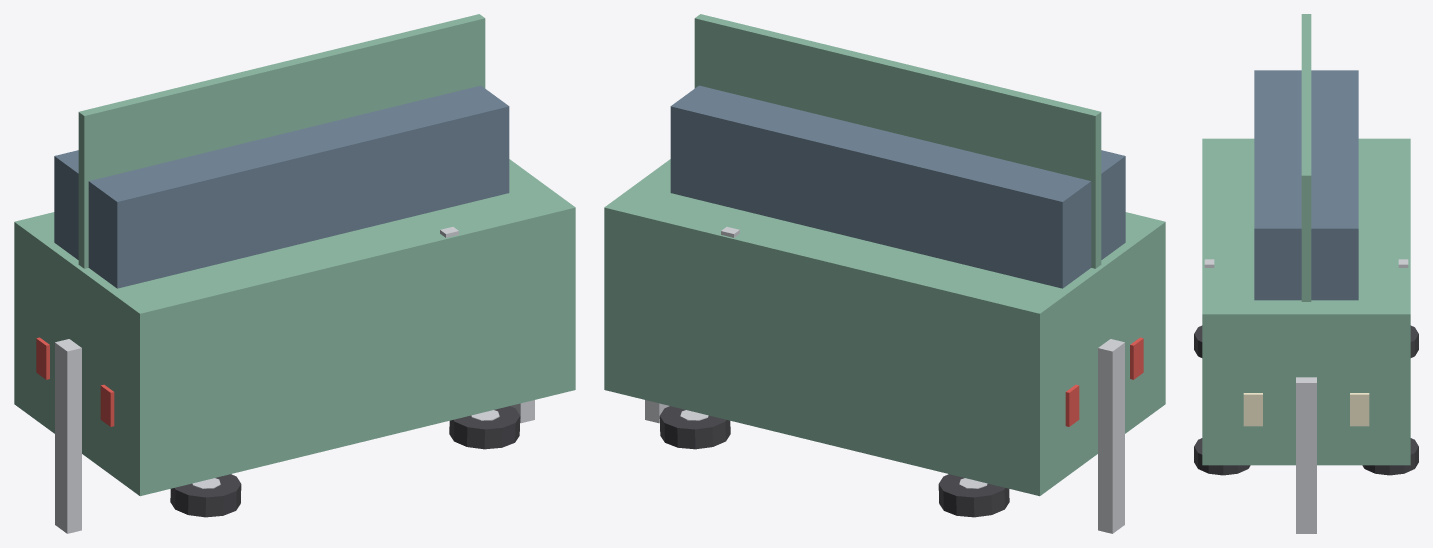
Rendered from minibus.glb.
3 renders of one model, left to right at view 1: azimuth 30°, elevation 25°; view 2: azimuth 150°, elevation 25°; view 3: azimuth 270°, elevation 25°, orthographic. The views are drawn at different scales.
Visible parts, largest first — view 1: Body, Cabin, Roof, BumperR, Wheel1.92-1.2, Wheel-1.92-1.2; view 2: Body, Cabin, Roof, BumperR, Wheel1.921.2, Wheel-1.921.2; view 3: Body, Cabin, BumperF, Roof, Head-1, Head1, Wheel1.92-1.2, Wheel1.921.2.
Boxes of the visible parts, x1,y1,x2,y2 form: Body: (14, 159, 575, 496); Cabin: (54, 85, 509, 288); Roof: (78, 14, 485, 268); BumperR: (55, 339, 81, 533); Wheel1.92-1.2: (449, 406, 520, 449); Wheel-1.92-1.2: (170, 474, 241, 517); Body: (604, 159, 1165, 496); Cabin: (670, 85, 1125, 288); Roof: (694, 14, 1101, 268); BumperR: (1098, 339, 1124, 533); Wheel1.921.2: (659, 406, 730, 449); Wheel-1.921.2: (938, 474, 1009, 517); Body: (1202, 138, 1410, 465); Cabin: (1254, 70, 1358, 300); BumperF: (1296, 377, 1316, 533); Roof: (1301, 14, 1311, 301); Head-1: (1243, 393, 1262, 426); Head1: (1350, 393, 1369, 426); Wheel1.92-1.2: (1194, 438, 1250, 475); Wheel1.921.2: (1362, 438, 1418, 475).
Bounding box in the file's own units: 6.44 × 5.4 × 3.24.
